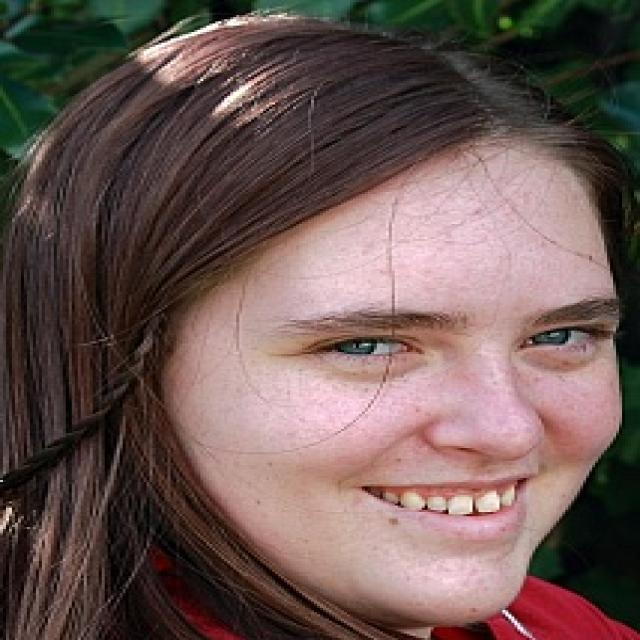Eyes: (294, 305, 605, 370)
